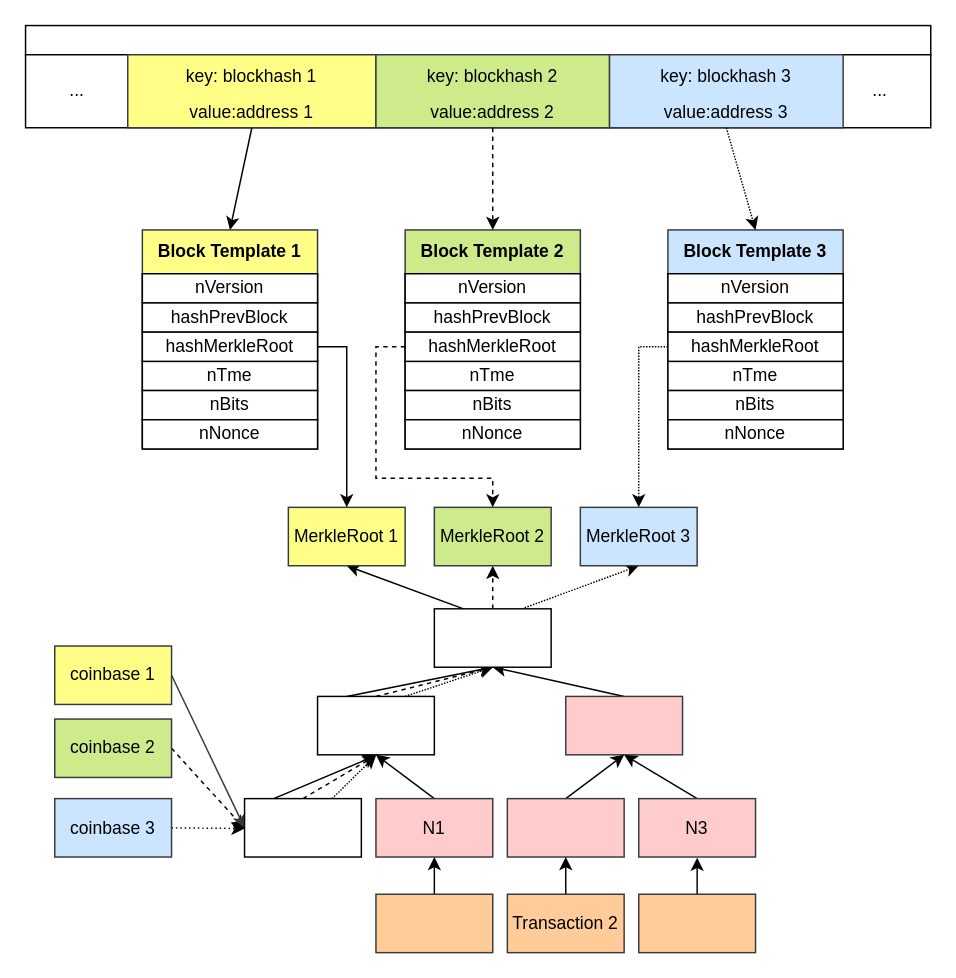
Image size: 956x978. Some labels were removed from this diagram. The centre of each missing label's shape, as x and y in pixels:
"Hash Table" goes at (x=477, y=39).
"N0" goes at (x=302, y=827).
"N2" goes at (x=565, y=827).
"N4" goes at (x=375, y=725).
"N5" goes at (x=623, y=725).
"N6" goes at (x=492, y=637).
"Transaction 1" goes at (x=433, y=923).
"Transaction 3" goes at (x=696, y=923).
